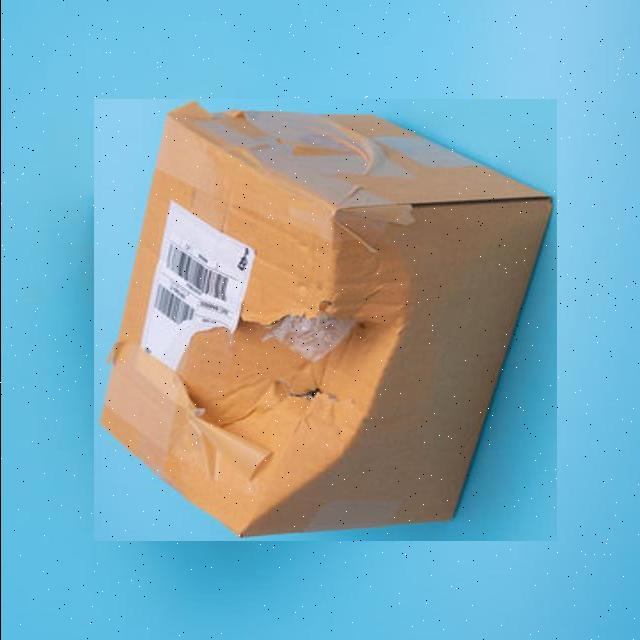defect: (93, 99, 556, 541)
